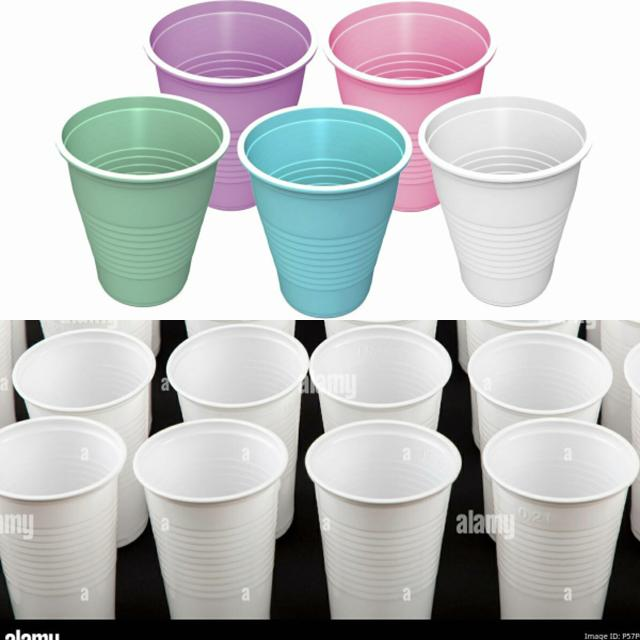Single-Use-Plastic: (239, 106, 411, 318), (145, 0, 318, 210), (58, 95, 229, 306), (325, 2, 495, 211), (420, 96, 590, 305), (482, 418, 639, 619), (305, 420, 461, 619), (12, 329, 155, 546), (134, 419, 288, 619), (166, 324, 309, 537), (0, 416, 126, 619), (468, 331, 612, 449), (309, 325, 452, 431)
